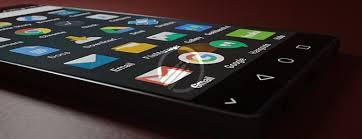Smartphone: (0, 0, 327, 113)
